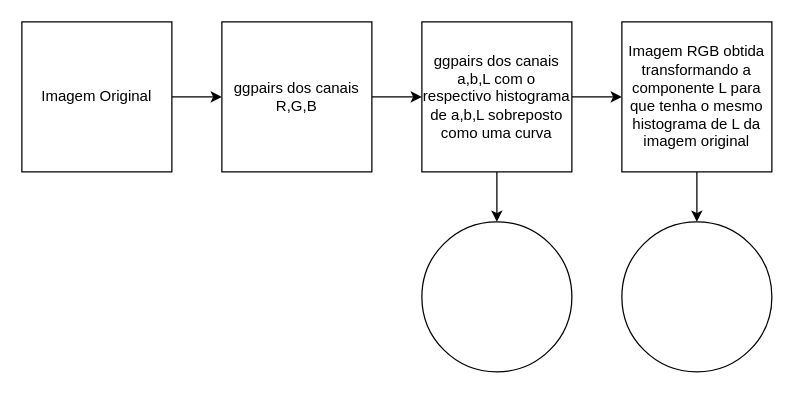
Image size: 794x394. Some labels were removed from this diagram. The box of each missing label's shape, as (x1, y1, x2, y2) in pixels:
distância de Hellinger da imagem original à imagem ideal: (421, 221, 572, 372)
distância de Hellinger da imagem transformada à imagem original: (621, 221, 772, 372)
